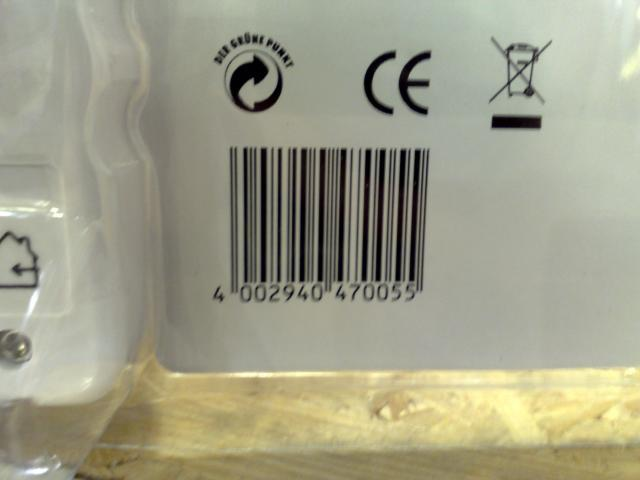Barcode: (204, 142, 436, 313)
